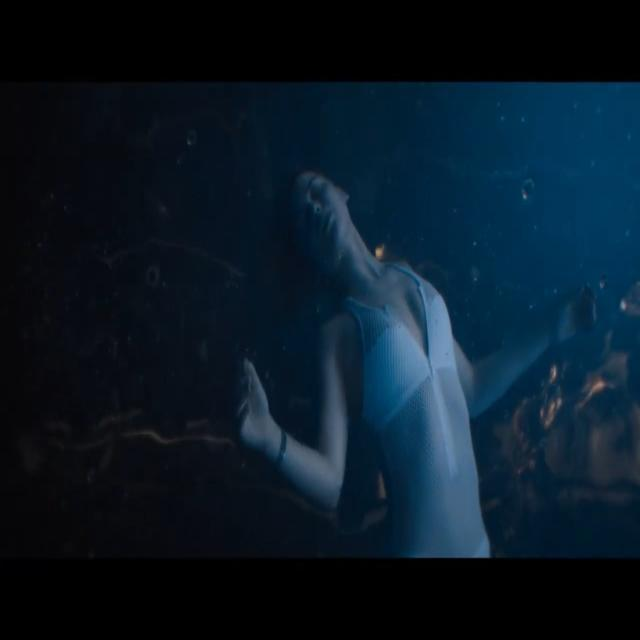Drowning: (217, 172, 609, 563)
